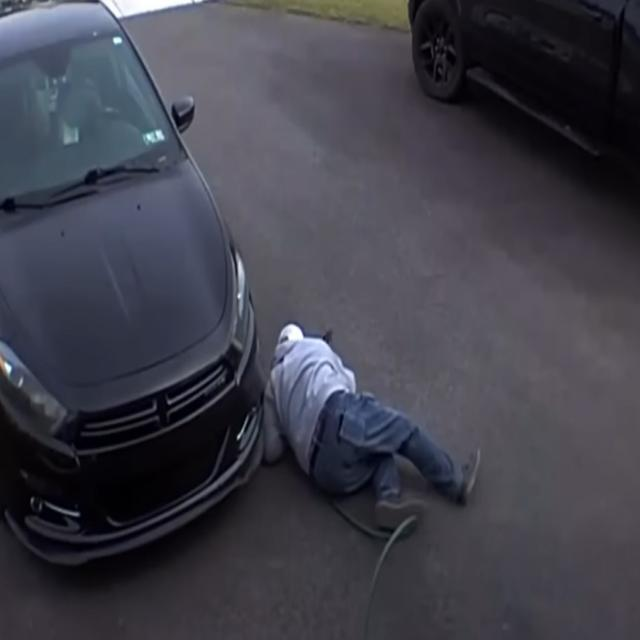fallen: (263, 323, 480, 530)
